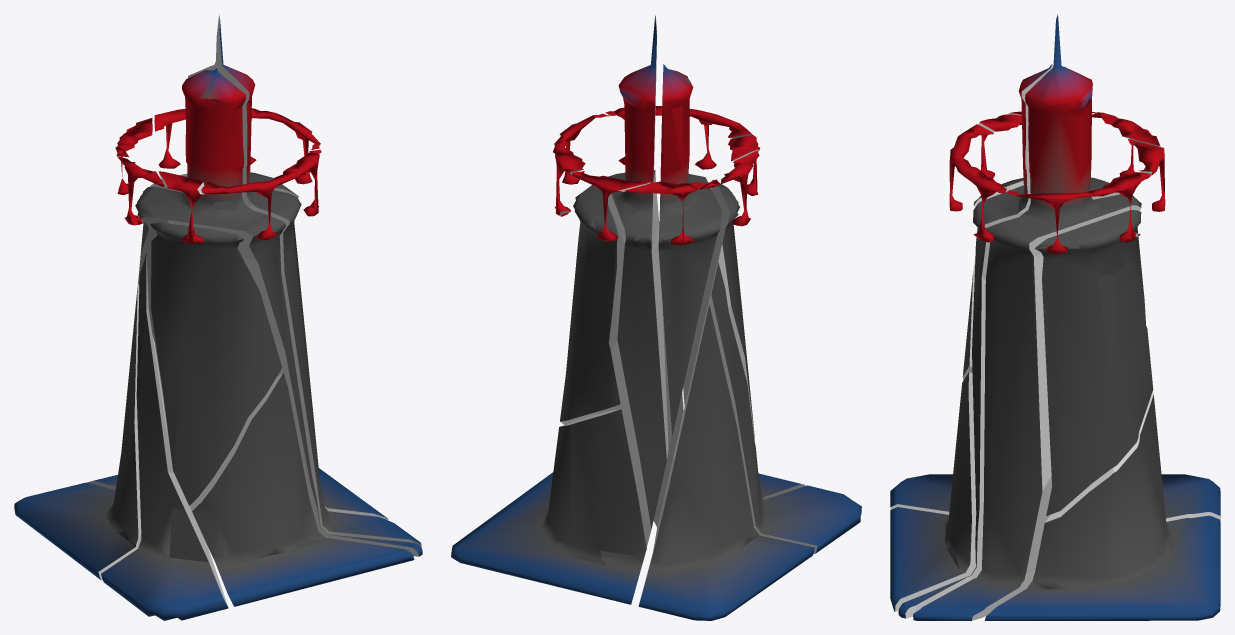
The model's file is Lighthouses.glb.
The picture shows the model from 3 angles, left to right: view 1: azimuth 30°, elevation 25°; view 2: azimuth 150°, elevation 25°; view 3: azimuth 270°, elevation 25°; orthographic projection. The views are drawn at different scales.
Parts seen in each view (by area): view 1: Root.003, Root.011, Root.001, Root, Root.007, Root.008, Root.005, Root.010, Root.004, Root.002, Root.013, Root.009; view 2: Root.007, Root.004, Root.008, Root.001, Root.012, Root, Root.003, Root.010, Root.011, Root.013, Root.005, Root.009 (+1 smaller); view 3: Root.008, Root.004, Root.012, Root.011, Root.001, Root.007, Root.005, Root, Root.013, Root.010, Root.009, Root.003 (+1 smaller).
Boxes of the visible parts, x1,y1,x2,y2 form: Root.003: (150, 222, 282, 505); Root.011: (190, 372, 414, 606); Root.001: (135, 68, 422, 556); Root: (101, 253, 228, 620); Root.007: (14, 283, 174, 580); Root.008: (150, 14, 421, 547); Root.005: (201, 149, 321, 240); Root.010: (115, 118, 164, 225); Root.004: (87, 468, 388, 520); Root.002: (158, 171, 204, 243); Root.013: (250, 108, 320, 184); Root.009: (154, 108, 185, 168); Root.007: (638, 305, 814, 620); Root.004: (451, 409, 646, 604); Root.008: (597, 15, 668, 546); Root.001: (658, 64, 721, 446); Root.012: (560, 185, 620, 424); Root: (653, 262, 861, 553); Root.003: (675, 179, 754, 450); Root.010: (624, 151, 759, 245); Root.011: (653, 387, 805, 540); Root.013: (553, 113, 609, 215); Root.005: (605, 106, 752, 169); Root.009: (572, 171, 652, 241); Root.008: (913, 14, 1141, 620); Root.004: (985, 391, 1220, 620); Root.012: (1035, 210, 1153, 516); Root.011: (890, 371, 976, 611); Root.001: (898, 64, 1120, 618); Root.007: (1161, 474, 1220, 521); Root.005: (949, 124, 1006, 242); Root: (890, 474, 952, 514); Root.013: (1007, 172, 1150, 254); Root.010: (1008, 111, 1160, 175); Root.009: (1128, 139, 1165, 211); Root.003: (962, 178, 1023, 380).
Size of the model in its own units: 4.35 by 7.87 by 4.35.
